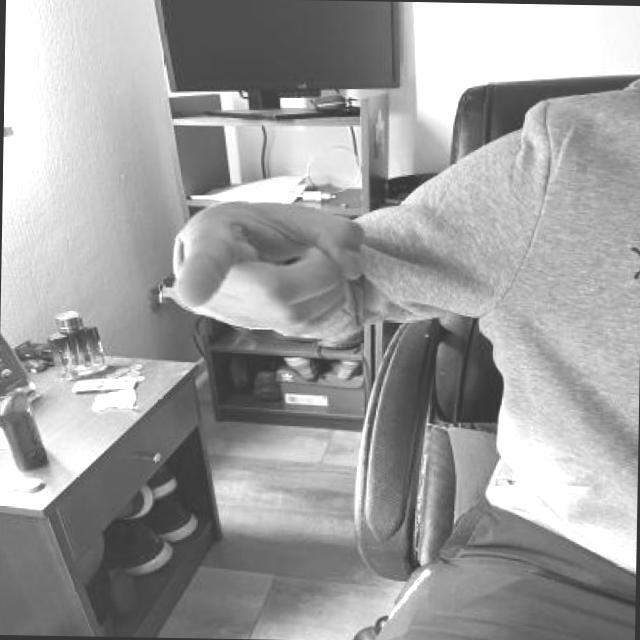X: (158, 194, 366, 343)
